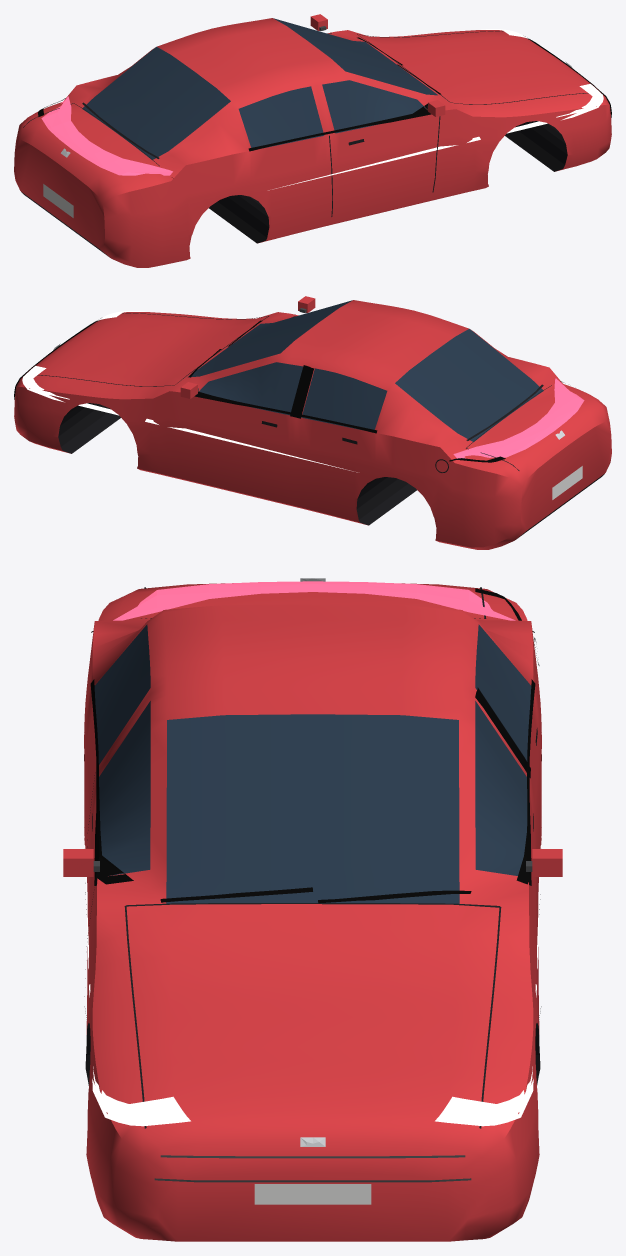
Rendered from hyundai-i30-cn7.glb.
The picture shows the model from 3 angles, top to bottom: view 1: azimuth 30°, elevation 25°; view 2: azimuth 150°, elevation 25°; view 3: azimuth 270°, elevation 25°; orthographic projection. The views are drawn at different scales.
Visible parts, largest first — view 1: hyundai-i30-cn7; view 2: hyundai-i30-cn7; view 3: hyundai-i30-cn7.
Boxes of the visible parts, x1,y1,x2,y2 form: hyundai-i30-cn7: (14,14,611,267); hyundai-i30-cn7: (14,296,611,549); hyundai-i30-cn7: (63,578,562,1241).
Size of the model in its own units: 4.7 by 1.28 by 1.97.
